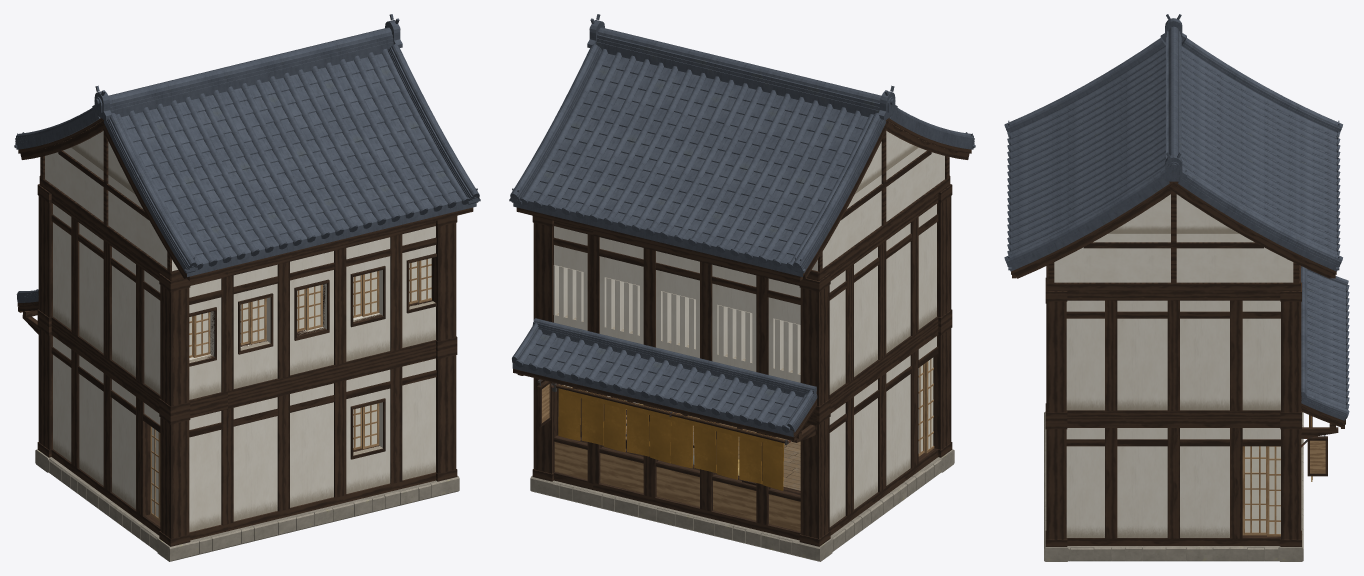
Rendered from HO_Bldg_GeneralStore.fbx.
3 views of the same model, side by side, from view 1: azimuth 30°, elevation 25°; view 2: azimuth 150°, elevation 25°; view 3: azimuth 270°, elevation 25° (orthographic). The views are drawn at different scales.
Parts seen in each view (by area): view 1: HO_Bldg_GeneralStore_RoofTiles, HO_Bldg_GeneralStore_Structure_GF, HO_Bldg_GeneralStore_Structure_2F, HO_Bldg_GeneralStore_RoofFrame, HO_Bldg_GeneralStore_Structure, HO_Bldg_GeneralStore_Door4, HO_Bldg_GeneralStore_Front; view 2: HO_Bldg_GeneralStore_RoofTiles, HO_Bldg_GeneralStore_Structure_2F, HO_Bldg_GeneralStore_Structure_GF, HO_Bldg_GeneralStore_Front, HO_Bldg_GeneralStore_RoofFrame, HO_Bldg_GeneralStore_Structure, HO_Bldg_GeneralStore_Interior_GF, HO_Bldg_GeneralStore_Door3, HO_Bldg_GeneralStore_Door4; view 3: HO_Bldg_GeneralStore_RoofTiles, HO_Bldg_GeneralStore_Structure_2F, HO_Bldg_GeneralStore_Structure_GF, HO_Bldg_GeneralStore_RoofFrame, HO_Bldg_GeneralStore_Front, HO_Bldg_GeneralStore_Structure, HO_Bldg_GeneralStore_Door2, HO_Bldg_GeneralStore_Door1, HO_Bldg_GeneralStore_SignFace.
Part boxes in pixels (<box>): HO_Bldg_GeneralStore_RoofTiles: <box>14,14,480,276</box>; HO_Bldg_GeneralStore_Structure_GF: <box>37,317,457,546</box>; HO_Bldg_GeneralStore_Structure_2F: <box>37,184,457,414</box>; HO_Bldg_GeneralStore_RoofFrame: <box>18,117,473,280</box>; HO_Bldg_GeneralStore_Structure: <box>35,449,459,561</box>; HO_Bldg_GeneralStore_Door4: <box>150,426,159,521</box>; HO_Bldg_GeneralStore_Front: <box>16,289,38,334</box>; HO_Bldg_GeneralStore_RoofTiles: <box>509,14,975,276</box>; HO_Bldg_GeneralStore_Structure_2F: <box>532,184,952,414</box>; HO_Bldg_GeneralStore_Structure_GF: <box>532,317,952,546</box>; HO_Bldg_GeneralStore_Front: <box>512,318,817,490</box>; HO_Bldg_GeneralStore_RoofFrame: <box>516,117,971,280</box>; HO_Bldg_GeneralStore_Structure: <box>530,449,954,561</box>; HO_Bldg_GeneralStore_Interior_GF: <box>615,398,800,490</box>; HO_Bldg_GeneralStore_Door3: <box>924,357,934,453</box>; HO_Bldg_GeneralStore_Door4: <box>918,364,924,456</box>; HO_Bldg_GeneralStore_RoofTiles: <box>1004,14,1342,271</box>; HO_Bldg_GeneralStore_Structure_2F: <box>1045,266,1301,419</box>; HO_Bldg_GeneralStore_Structure_GF: <box>1045,302,1301,546</box>; HO_Bldg_GeneralStore_RoofFrame: <box>1011,181,1336,291</box>; HO_Bldg_GeneralStore_Front: <box>1301,266,1349,481</box>; HO_Bldg_GeneralStore_Structure: <box>1044,411,1303,561</box>; HO_Bldg_GeneralStore_Door2: <box>1242,446,1266,535</box>; HO_Bldg_GeneralStore_Door1: <box>1267,446,1280,536</box>; HO_Bldg_GeneralStore_SignFace: <box>1310,440,1325,473</box>.
Bounding box in the file's own units: 21.53 × 28.93 × 22.06.
